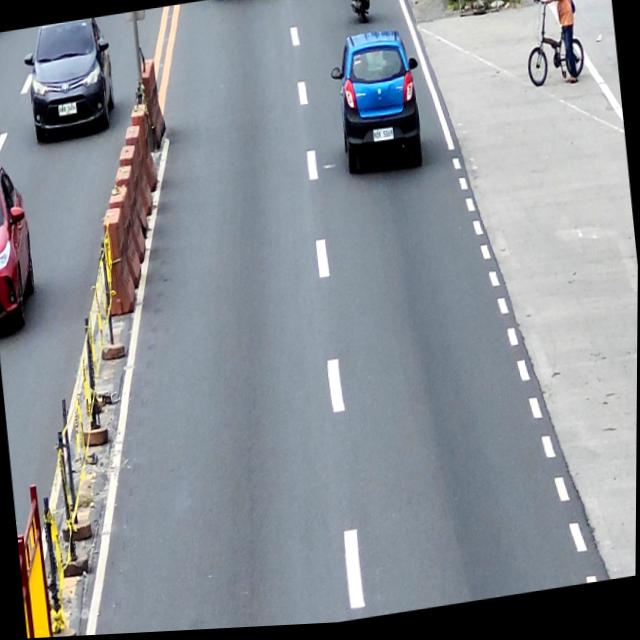Bicycle: (520, 0, 587, 95)
Car: (327, 28, 429, 182), (20, 16, 119, 148), (0, 158, 40, 337)
License-Plate: (372, 130, 394, 145), (58, 102, 77, 115)
